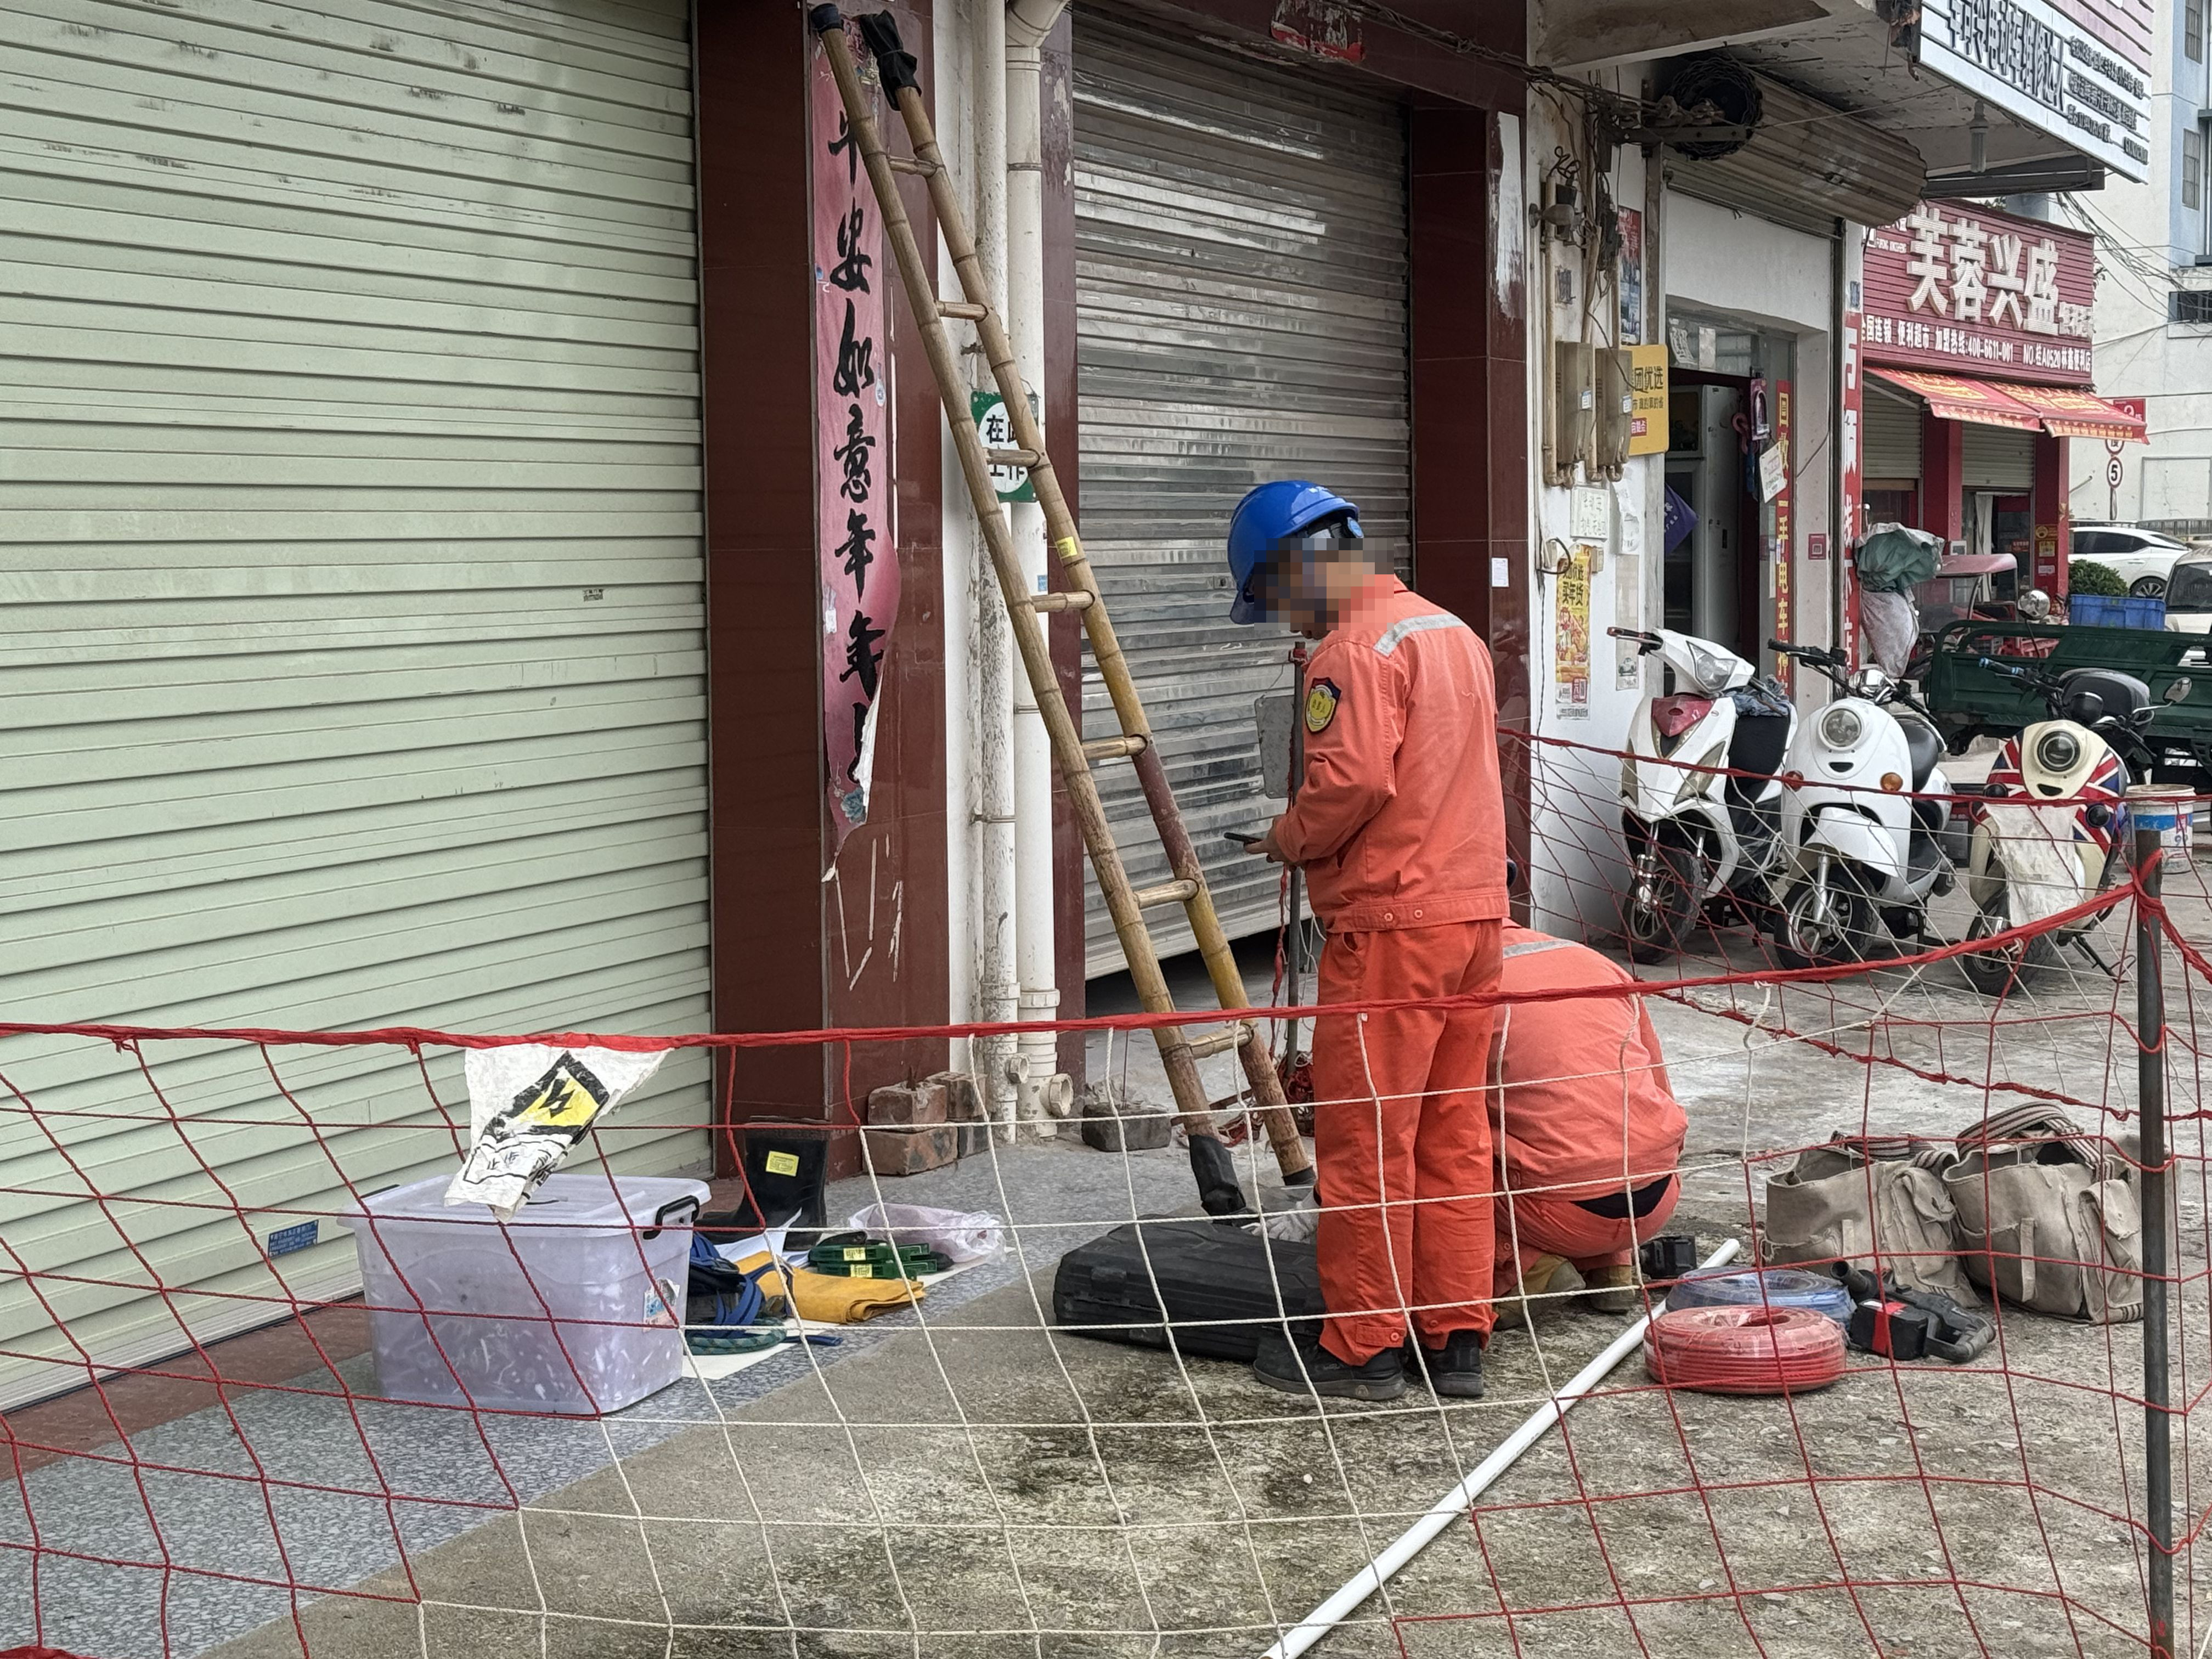halt: (1223, 476, 1370, 629)
hand: (1244, 814, 1304, 873)
inear: (1257, 544, 1341, 623)
person: (1220, 475, 1539, 1389), (1510, 924, 1696, 1308)
sleeve: (1304, 674, 1345, 734)
worksign: (969, 387, 1048, 507)
ydownsuit: (1301, 949, 1505, 1326)
yupsuit: (1276, 569, 1512, 910), (1502, 926, 1685, 1171)
